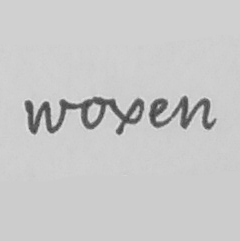e: (147, 95, 171, 129)
n: (176, 93, 214, 131)
o: (77, 93, 107, 131)
w: (20, 96, 69, 136)
x: (108, 93, 146, 136)
